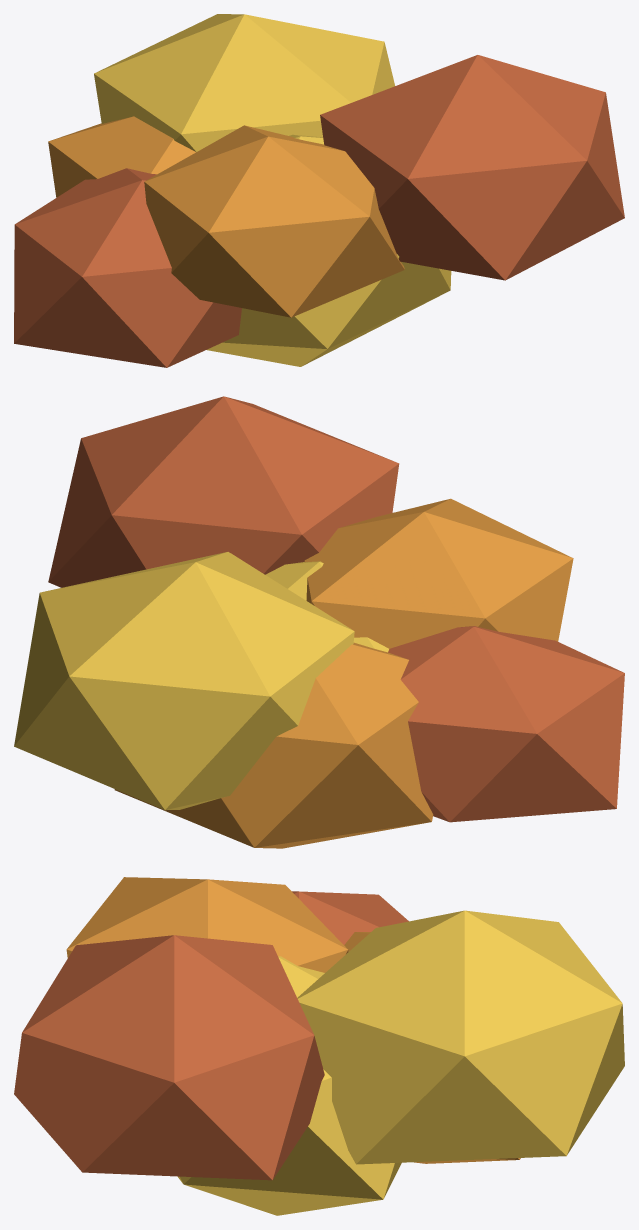
Rendered from bush_cluster_autumn.glb.
3 renders of one model, top to bottom at view 1: azimuth 30°, elevation 25°; view 2: azimuth 150°, elevation 25°; view 3: azimuth 270°, elevation 25°, orthographic. The views are drawn at different scales.
Parts seen in each view (by area): view 1: bush_cluster_autumn; view 2: bush_cluster_autumn; view 3: bush_cluster_autumn.
Boxes of the visible parts, x1,y1,x2,y2 form: bush_cluster_autumn: (14,14,624,367); bush_cluster_autumn: (14,396,624,848); bush_cluster_autumn: (14,877,624,1215).
Size of the model in its own units: 4.32 by 2.41 by 3.79.
